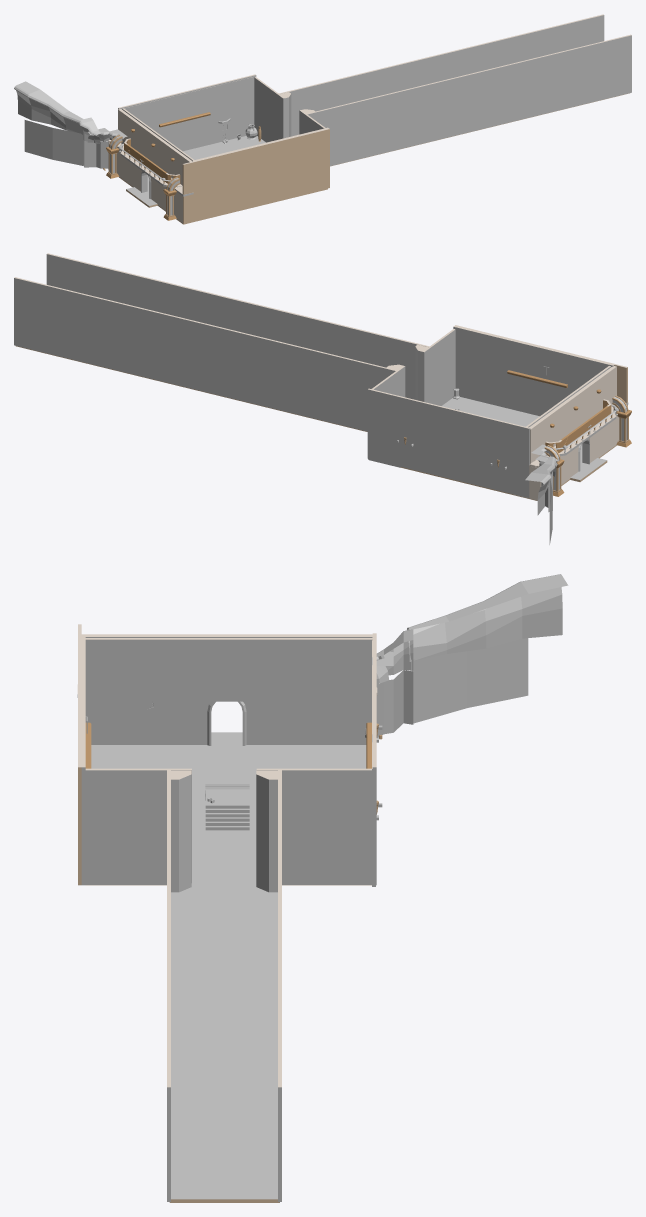
Rendered from EntryRoom.obj.
3 renders of one model, top to bottom at view 1: azimuth 30°, elevation 25°; view 2: azimuth 150°, elevation 25°; view 3: azimuth 270°, elevation 25°, orthographic. The views are drawn at different scales.
Visible parts, largest first — view 1: mergedBlocks; view 2: mergedBlocks; view 3: mergedBlocks.
Part boxes in pixels (<box>): mergedBlocks: <box>14,14,631,224</box>; mergedBlocks: <box>14,253,631,544</box>; mergedBlocks: <box>77,574,568,1202</box>.
Size of the model in its own units: 61.19 by 7.01 by 25.02.
